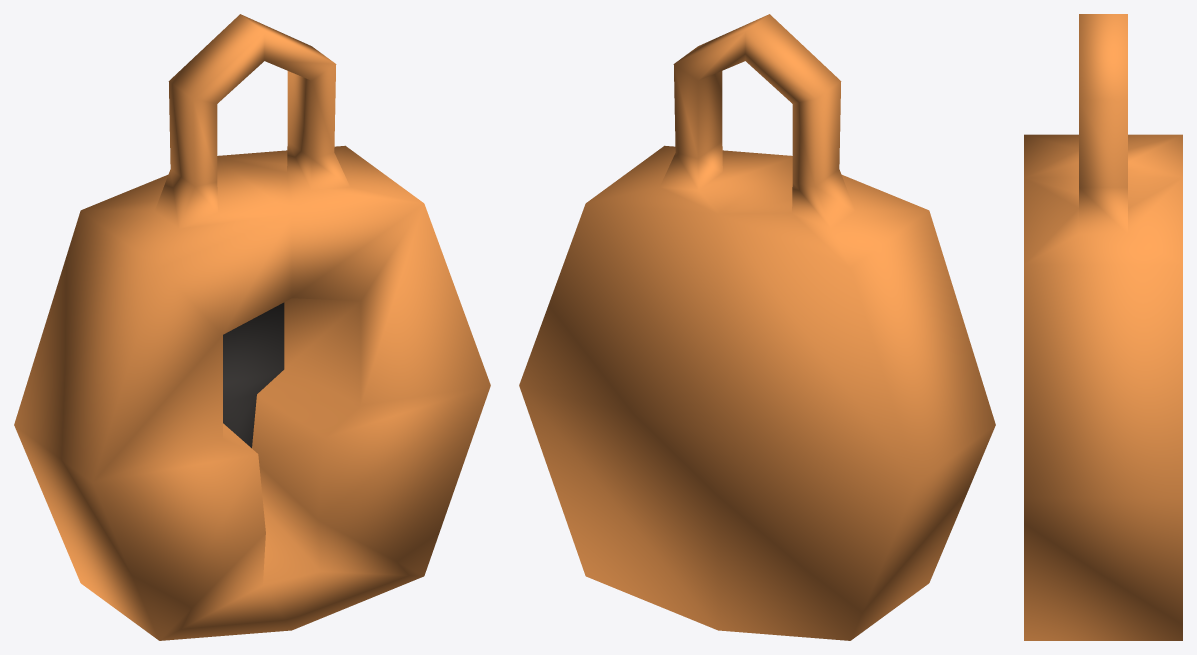
File: lock.fbx
3 renders of one model, left to right at view 1: azimuth 30°, elevation 25°; view 2: azimuth 150°, elevation 25°; view 3: azimuth 270°, elevation 25°, orthographic.
Visible parts, largest first — view 1: lock; view 2: lock; view 3: lock.
Part boxes in pixels (bbox=[...]): lock: bbox=[14, 14, 490, 640]; lock: bbox=[519, 14, 995, 640]; lock: bbox=[1024, 14, 1182, 640].
Size of the model in its own units: 41.14 by 57.16 by 14.1.
